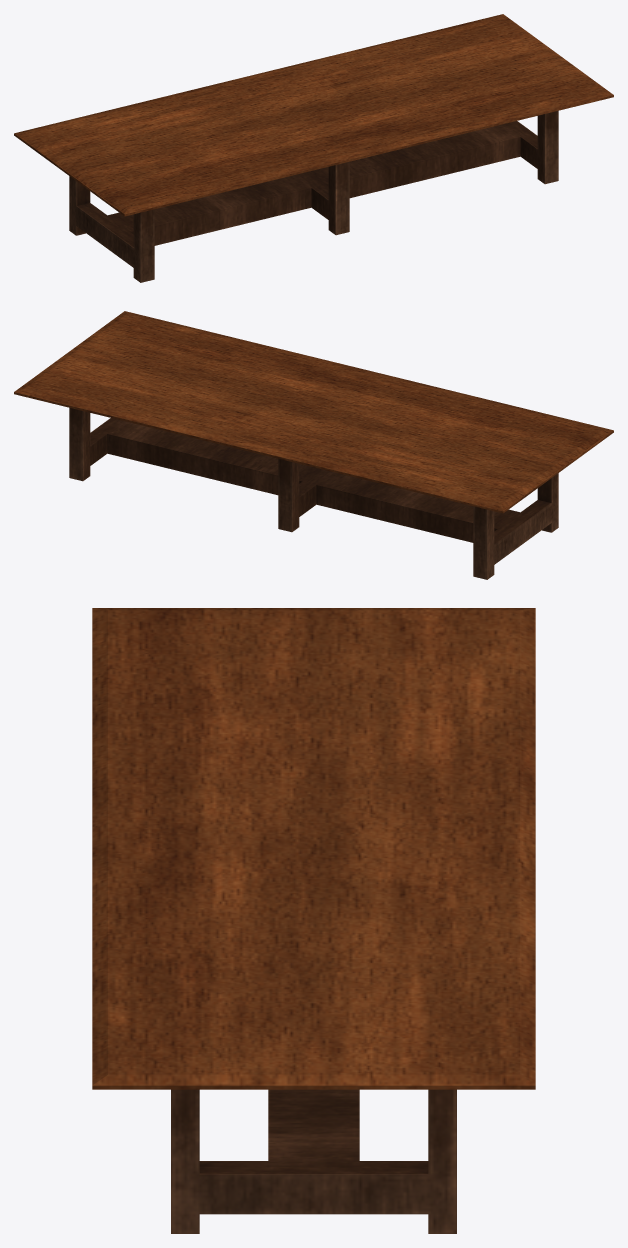
Rendered from Conference Table.fbx.
3 views of the same model, one above another, from view 1: azimuth 30°, elevation 25°; view 2: azimuth 150°, elevation 25°; view 3: azimuth 270°, elevation 25° (orthographic). The views are drawn at different scales.
Visible parts, largest first — view 1: ConferenceTable; view 2: ConferenceTable; view 3: ConferenceTable.
Part boxes in pixels (x1,y1,x2,y2): ConferenceTable: [14, 14, 613, 282]; ConferenceTable: [14, 311, 613, 579]; ConferenceTable: [92, 608, 535, 1233].
Size of the model in its own units: 501 by 197 by 91.74.
